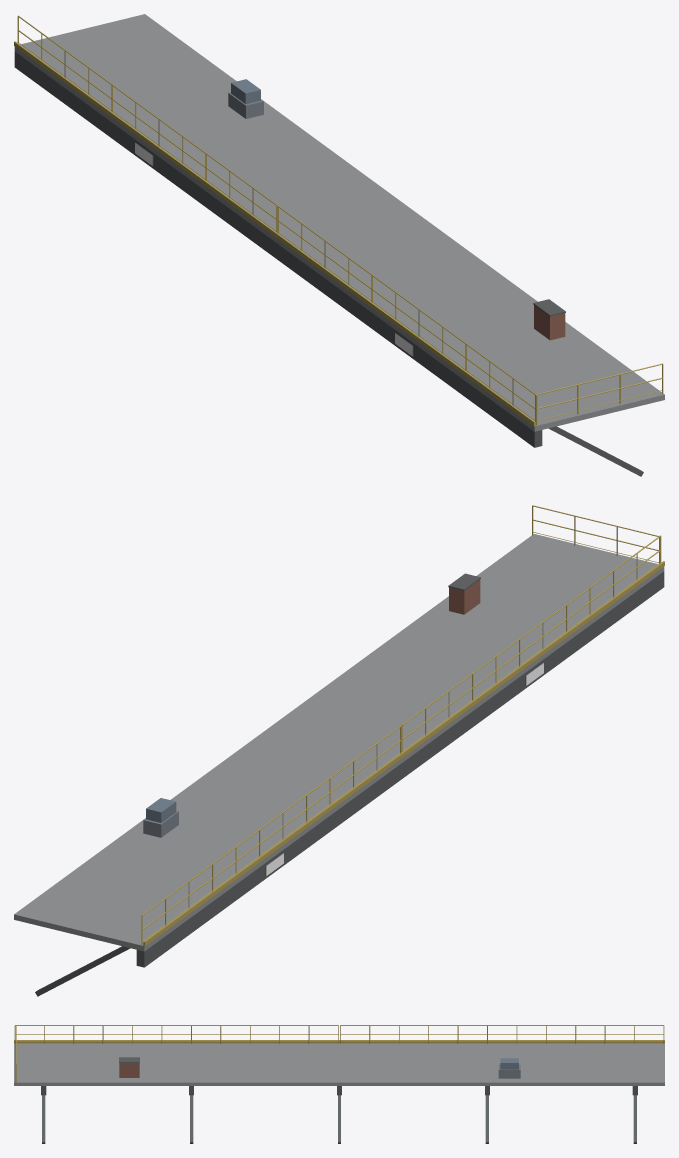
Rendered from plat_e3.glb.
The picture shows the model from 3 angles, top to bottom: view 1: azimuth 30°, elevation 25°; view 2: azimuth 150°, elevation 25°; view 3: azimuth 270°, elevation 25°; orthographic projection. The views are drawn at different scales.
Parts seen in each view (by area): view 1: plat_e3; view 2: plat_e3; view 3: plat_e3.
Part boxes in pixels (x1,y1,x2,y2): plat_e3: (14,14,664,476); plat_e3: (14,505,664,996); plat_e3: (14,1025,664,1143).
Bounding box in the file's own units: 5.18 × 4.79 × 35.2.
